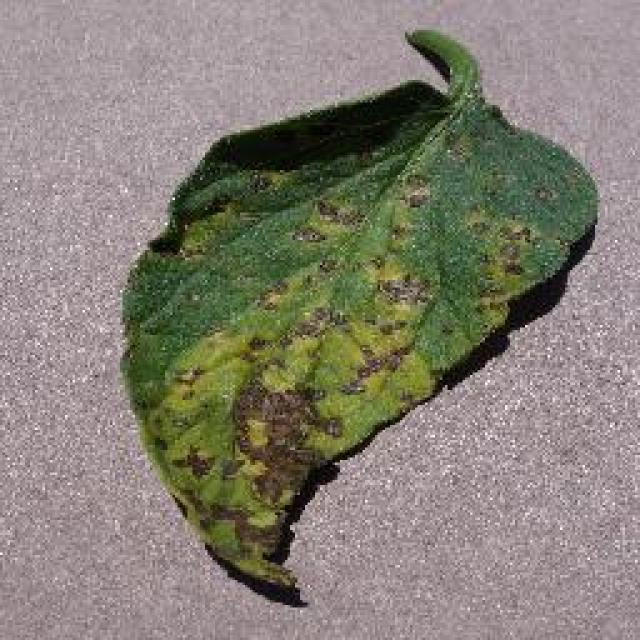Tomato___Septoria_leaf_spot: (122, 30, 595, 585)
